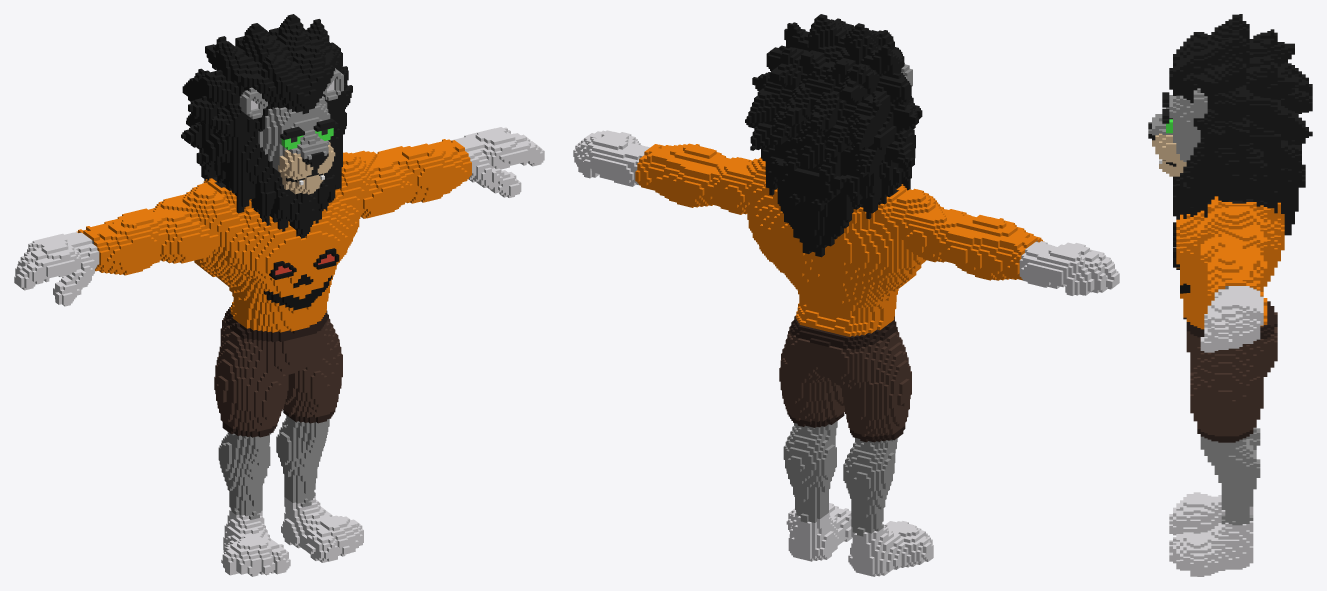
3 views of the same model, side by side, from view 1: azimuth 30°, elevation 25°; view 2: azimuth 150°, elevation 25°; view 3: azimuth 270°, elevation 25° (orthographic). The views are drawn at different scales.
Parts seen in each view (by area): view 1: standard; view 2: standard; view 3: standard.
Boxes of the visible parts, <box> form: standard: <box>14,14,544,576</box>; standard: <box>573,14,1119,576</box>; standard: <box>1148,14,1312,576</box>.
Bounding box in the file's own units: 17.2 × 16.5 × 4.7.
Materials: 5 (5 with a texture image).
